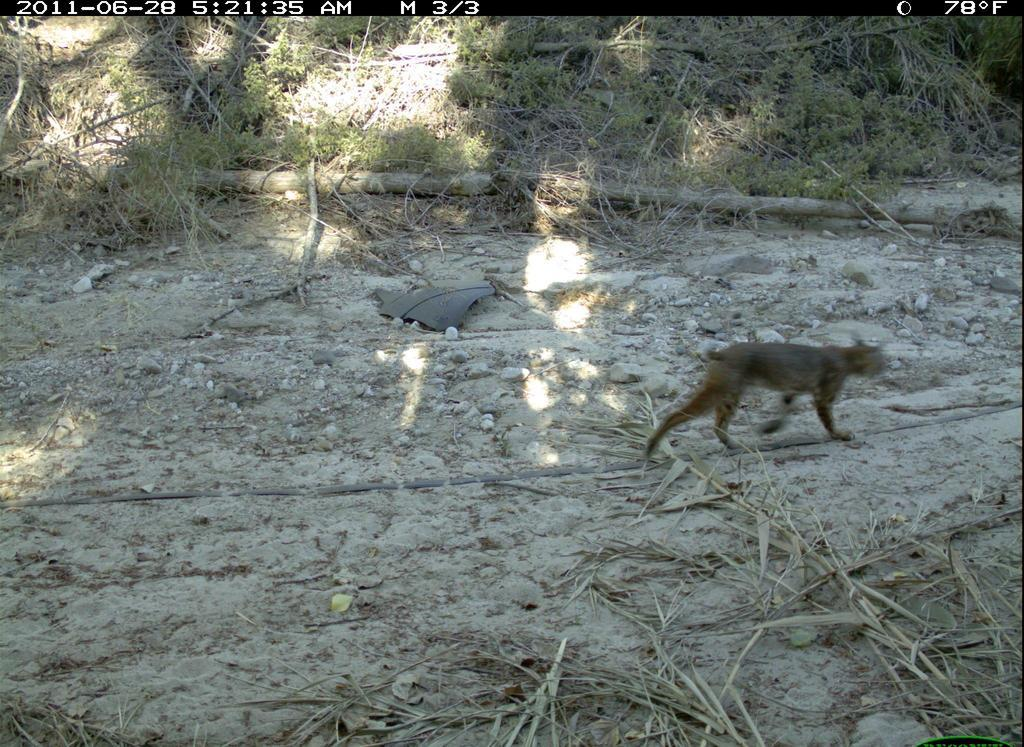bobcat: (619, 312, 904, 470)
